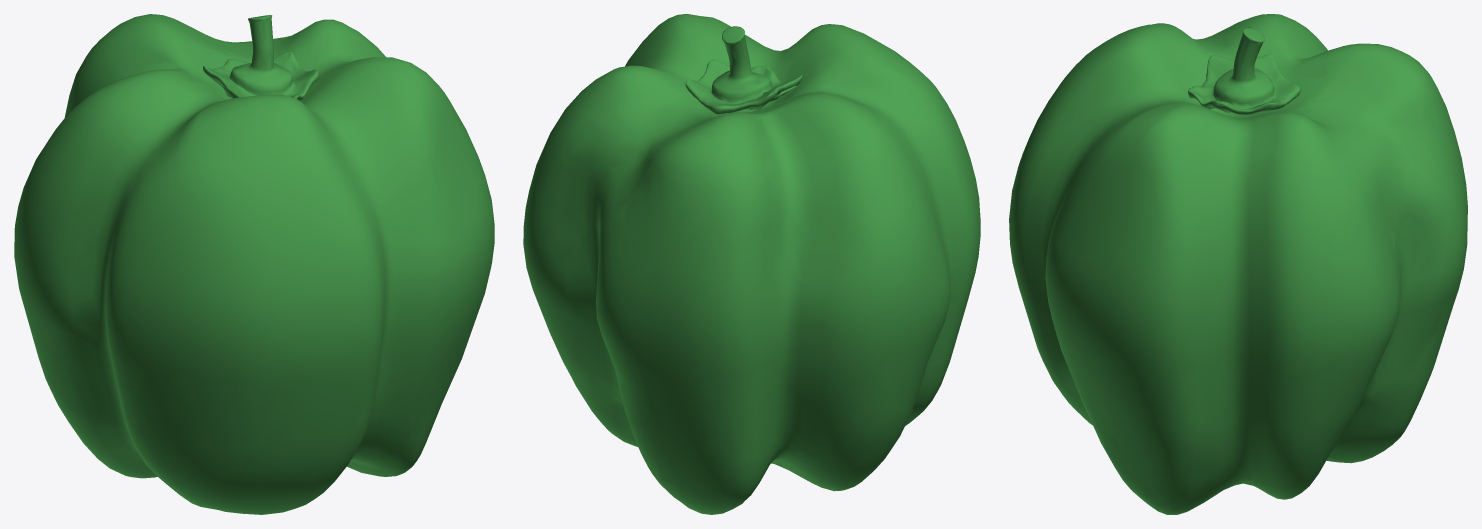
Rendered from denglongjiao.fbx.
3 renders of one model, left to right at view 1: azimuth 30°, elevation 25°; view 2: azimuth 150°, elevation 25°; view 3: azimuth 270°, elevation 25°, orthographic. The views are drawn at different scales.
Parts seen in each view (by area): view 1: Box033; view 2: Box033; view 3: Box033.
Boxes of the visible parts, x1,y1,x2,y2 form: Box033: [14, 14, 494, 514]; Box033: [523, 14, 980, 514]; Box033: [1009, 14, 1467, 514].
Size of the model in its own units: 121 by 131 by 123.
